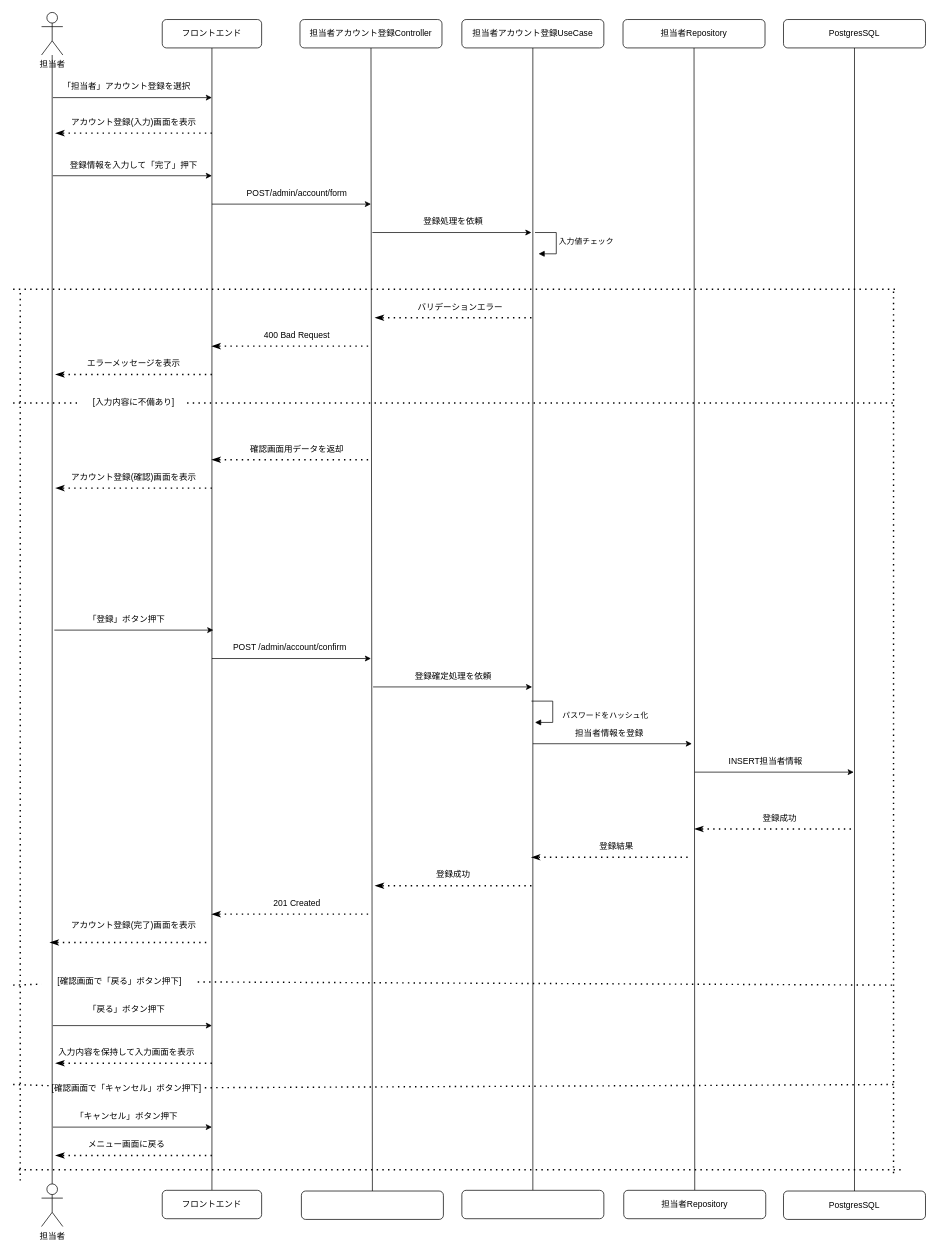
The diagram is 938 pixels wide and 1254 high, and some of its shapes have lost their labels. The shapes that lost their labels are listed below. From the top down, each one's centre as x and y in pixels, then its label:
At pixel 372 1204: "UserRegisterController".
At pixel 532 1204: "UserRegisterUseCase".
